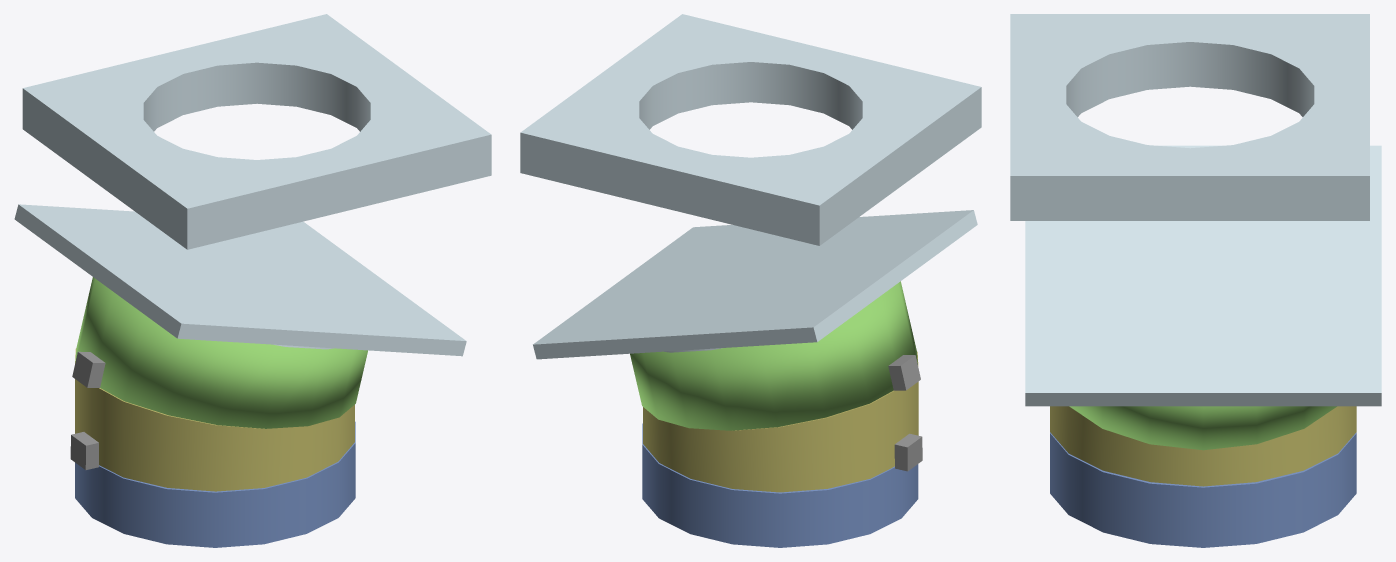
3 views of the same model, side by side, from view 1: azimuth 30°, elevation 25°; view 2: azimuth 150°, elevation 25°; view 3: azimuth 270°, elevation 25° (orthographic). The views are drawn at different scales.
Parts seen in each view (by area): view 1: Box002, Box001, Cylinder003, Cylinder002, Cylinder001, Box003, Box004; view 2: Box002, Box001, Cylinder003, Cylinder002, Cylinder001, Box003, Box004; view 3: Box001, Box002, Cylinder001, Cylinder002, Cylinder003.
Part boxes in pixels (left/top/right/bottom): Box002: left=22, top=14, right=491, bottom=249; Box001: left=14, top=204, right=466, bottom=356; Cylinder003: left=75, top=277, right=367, bottom=428; Cylinder002: left=75, top=348, right=354, bottom=491; Cylinder001: left=75, top=421, right=355, bottom=547; Box003: left=72, top=351, right=105, bottom=387; Box004: left=70, top=432, right=98, bottom=469; Box002: left=520, top=14, right=981, bottom=245; Box001: left=533, top=210, right=977, bottom=359; Cylinder003: left=630, top=281, right=917, bottom=430; Cylinder002: left=643, top=351, right=918, bottom=492; Cylinder001: left=642, top=423, right=918, bottom=547; Box003: left=888, top=355, right=920, bottom=390; Box004: left=894, top=433, right=922, bottom=471; Box001: left=1025, top=145, right=1381, bottom=406; Box002: left=1010, top=14, right=1369, bottom=220; Cylinder001: left=1050, top=432, right=1356, bottom=547; Cylinder002: left=1050, top=406, right=1356, bottom=486; Cylinder003: left=1069, top=406, right=1336, bottom=450.
Size of the model in its own units: 4.82 by 5.28 by 4.37.
